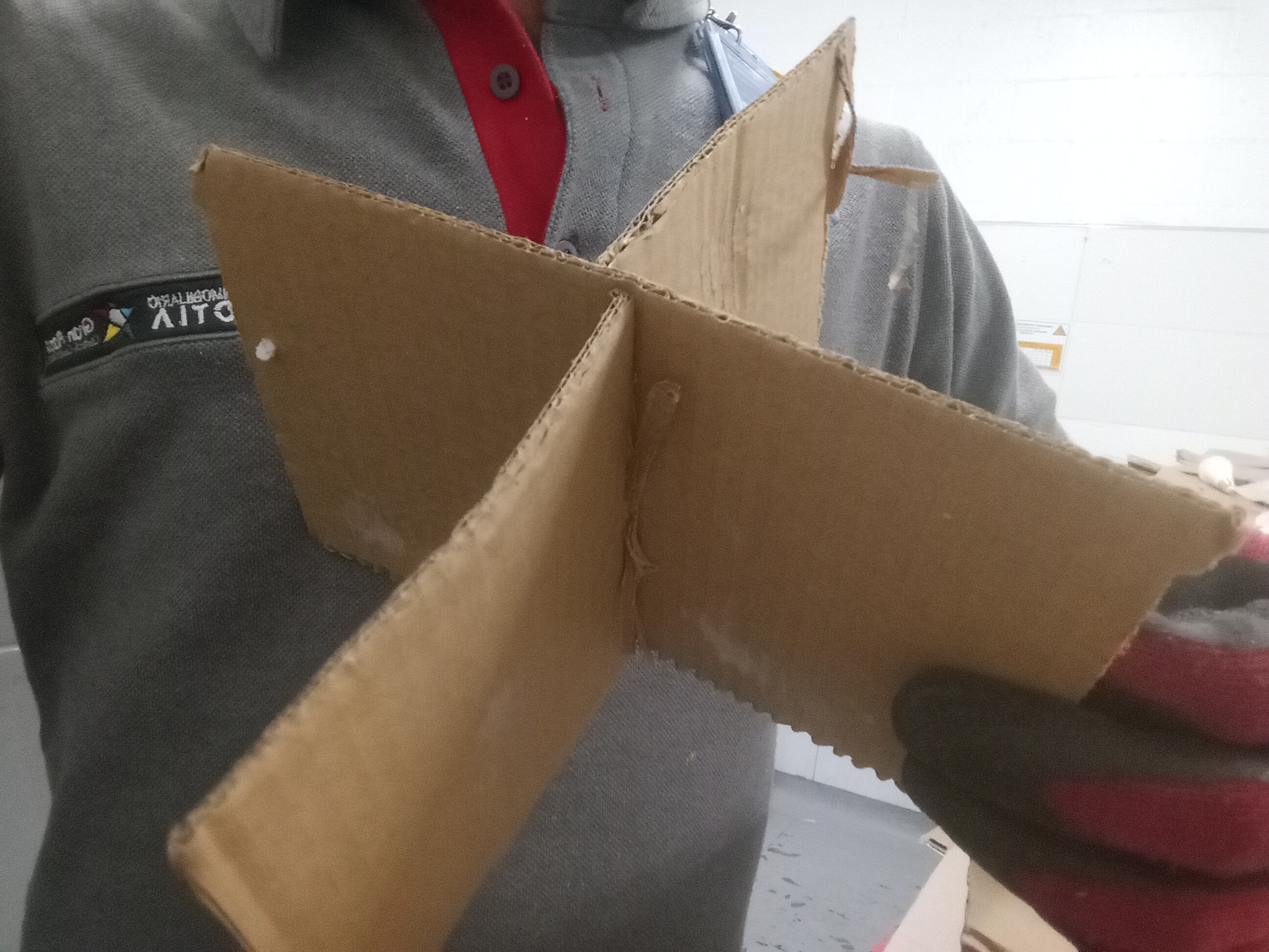Carton: (167, 13, 1244, 952)
